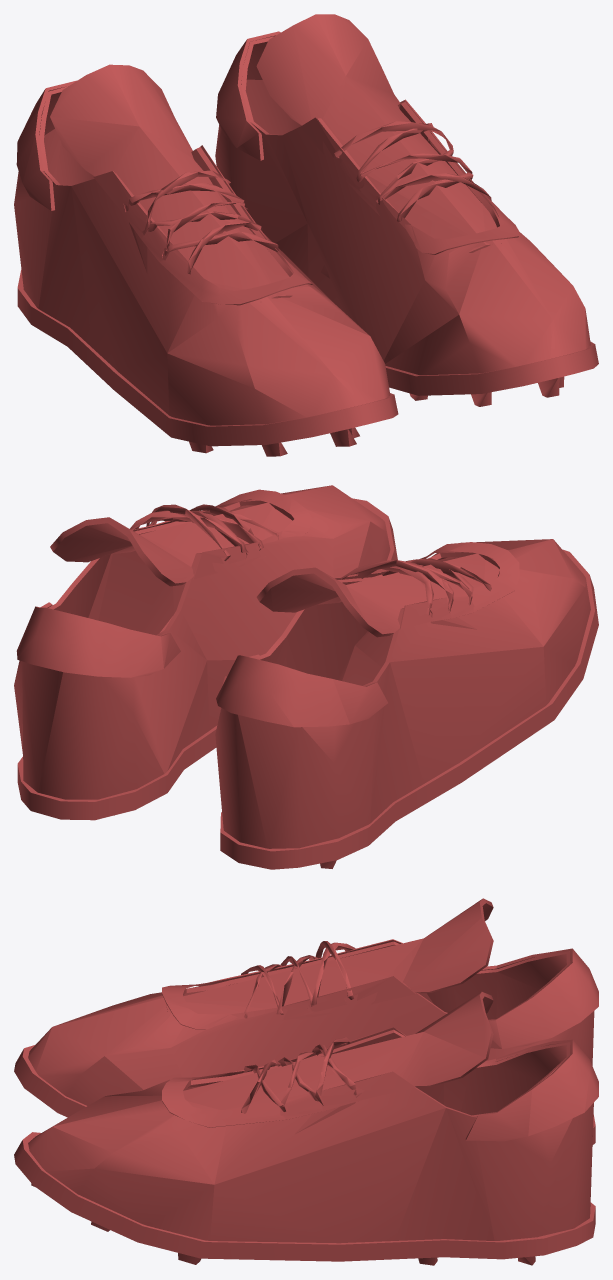
Rendered from shoes.fbx.
3 renders of one model, top to bottom at view 1: azimuth 30°, elevation 25°; view 2: azimuth 150°, elevation 25°; view 3: azimuth 270°, elevation 25°, orthographic. The views are drawn at different scales.
Parts seen in each view (by area): view 1: shoes; view 2: shoes; view 3: shoes.
Boxes of the visible parts, left/top/right/bottom form: shoes: left=14, top=14, right=598, bottom=456; shoes: left=14, top=485, right=598, bottom=869; shoes: left=14, top=898, right=598, bottom=1265.
Bounding box in the file's own units: 44.58 × 29.98 × 63.57.
